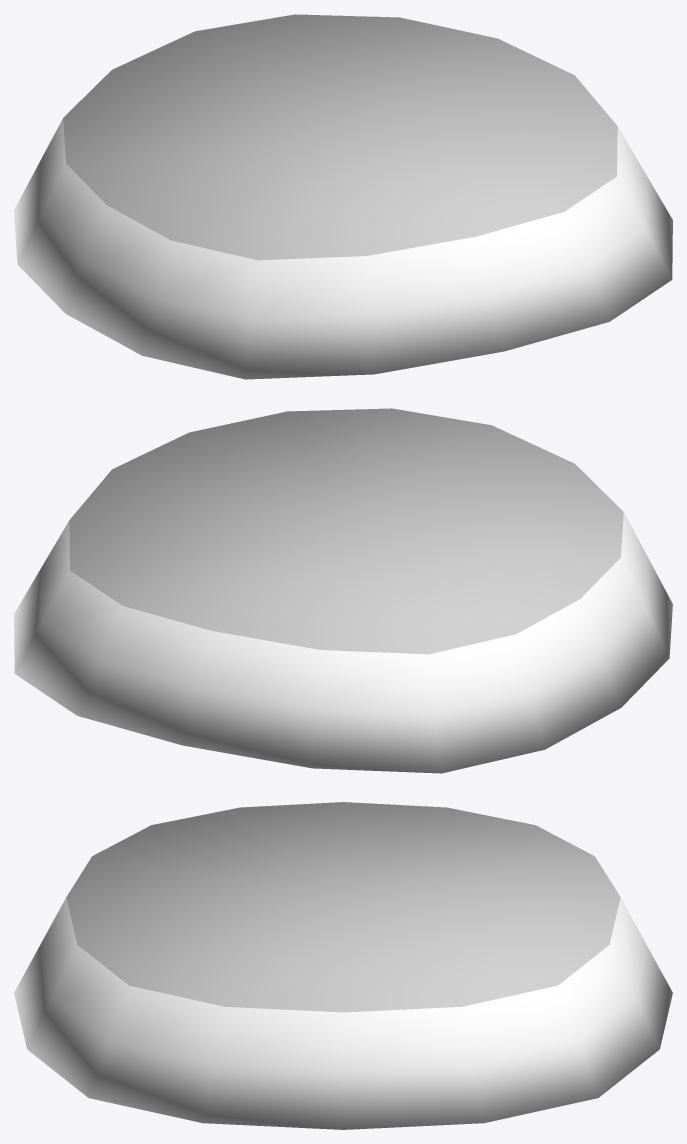
Rendered from sweat_band.fbx.
3 renders of one model, top to bottom at view 1: azimuth 30°, elevation 25°; view 2: azimuth 150°, elevation 25°; view 3: azimuth 270°, elevation 25°, orthographic.
Parts seen in each view (by area): view 1: Cube.002; view 2: Cube.002; view 3: Cube.002.
Boxes of the visible parts, bbox=[...] form: Cube.002: bbox=[14, 14, 672, 379]; Cube.002: bbox=[14, 408, 672, 773]; Cube.002: bbox=[14, 802, 672, 1129].
Size of the model in its own units: 101 by 19.71 by 104.
